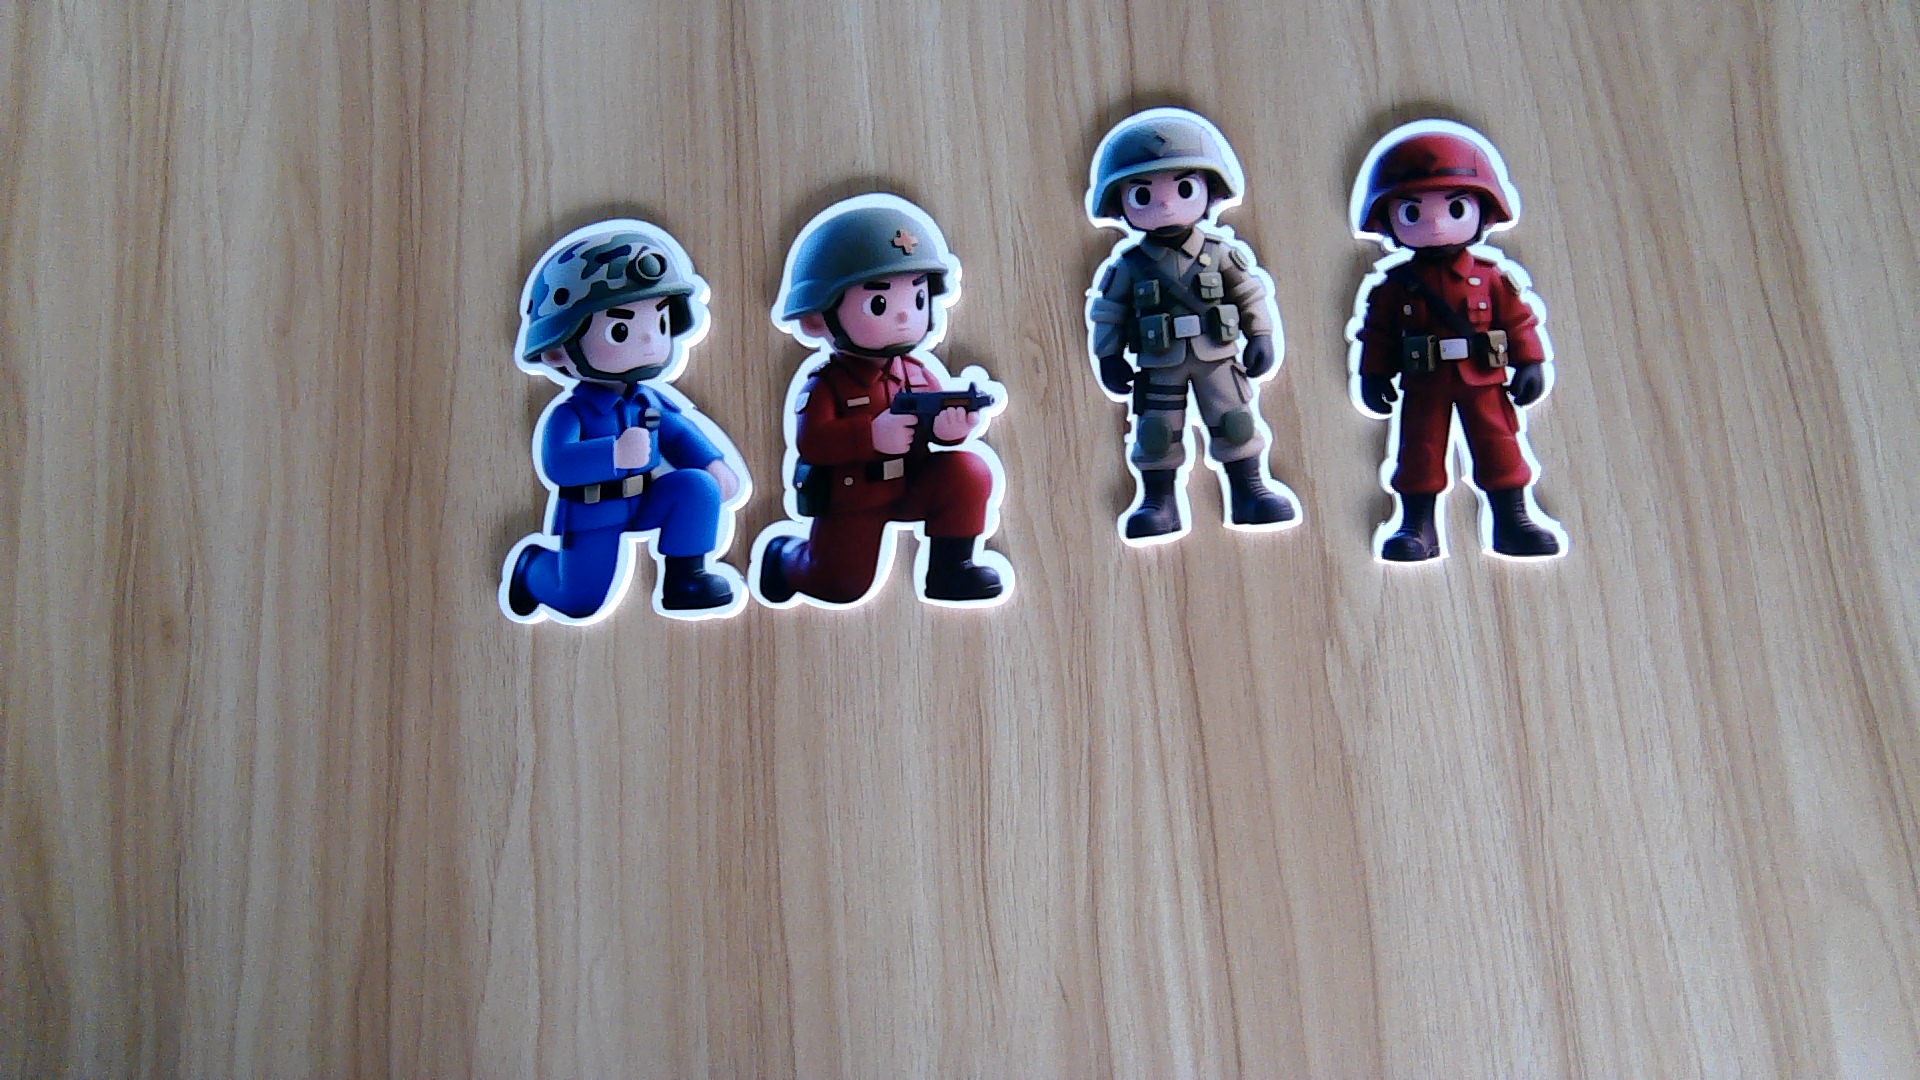友军: (1067, 231, 1313, 553)
敌人1: (1337, 247, 1571, 570), (742, 353, 1022, 618)
敌人2: (483, 386, 749, 633)
